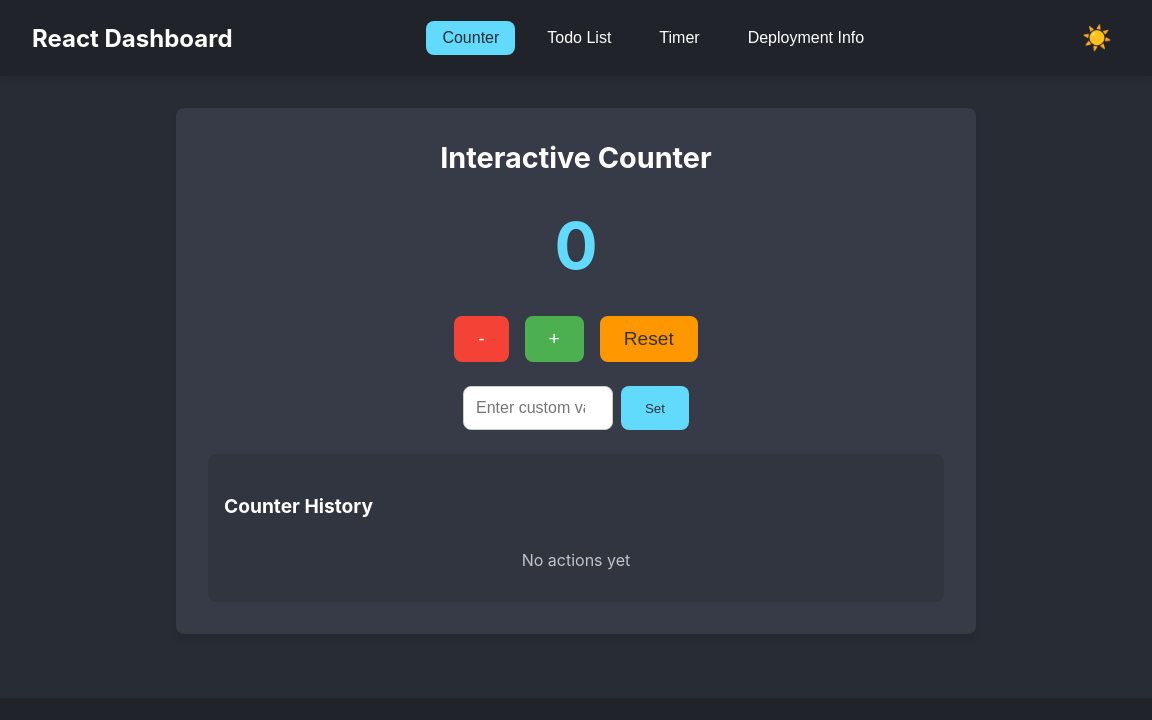
Test case: App Component › todo list functionality works correctly
Click the button "Todo List": (579, 38) [531,21,627,55]
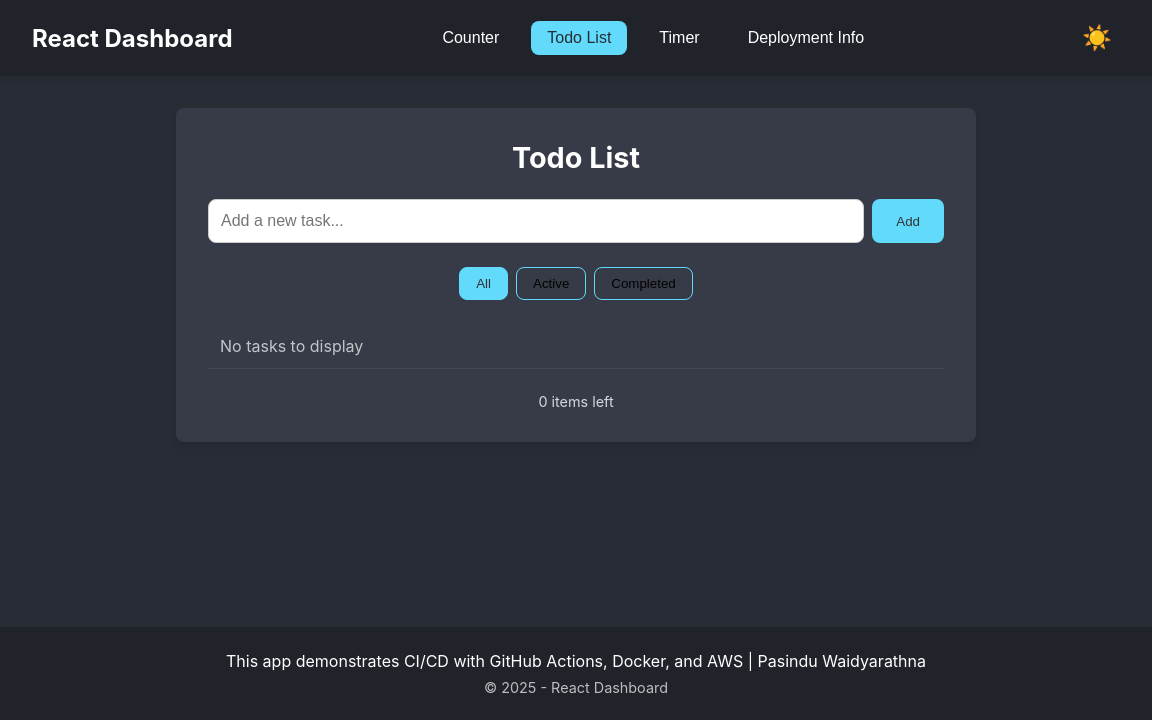
In the field with placeholder "Add a new task...": (536, 221) [208,199,864,243], type "Test todo item"
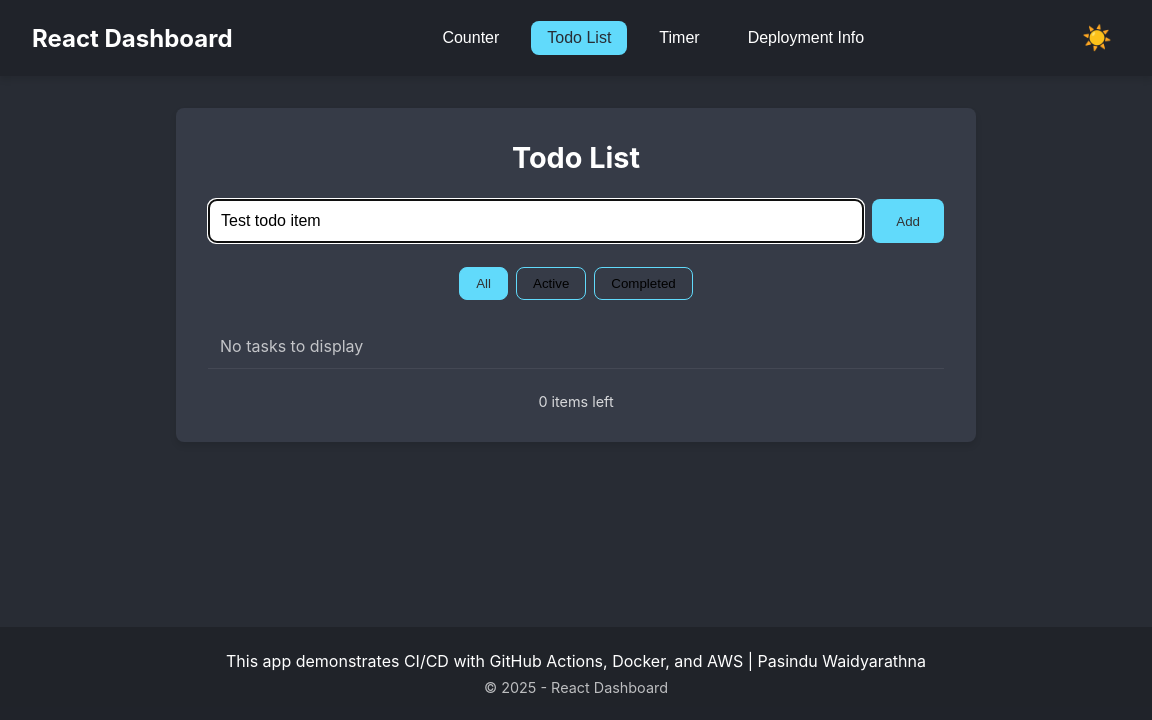
Click the button "Add": (908, 221) [872,199,944,243]
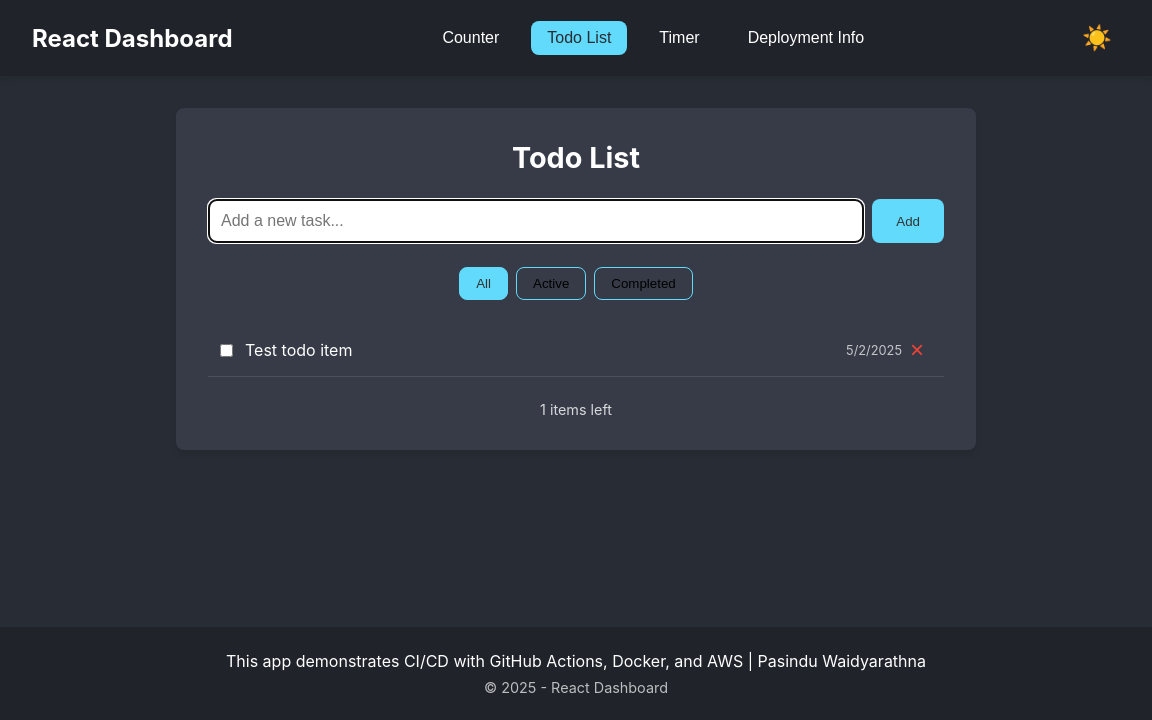
Check: the text "Test todo item" is shown, box [245,340,352,360]
Click the checkbox: (226, 350) [220,344,233,356]
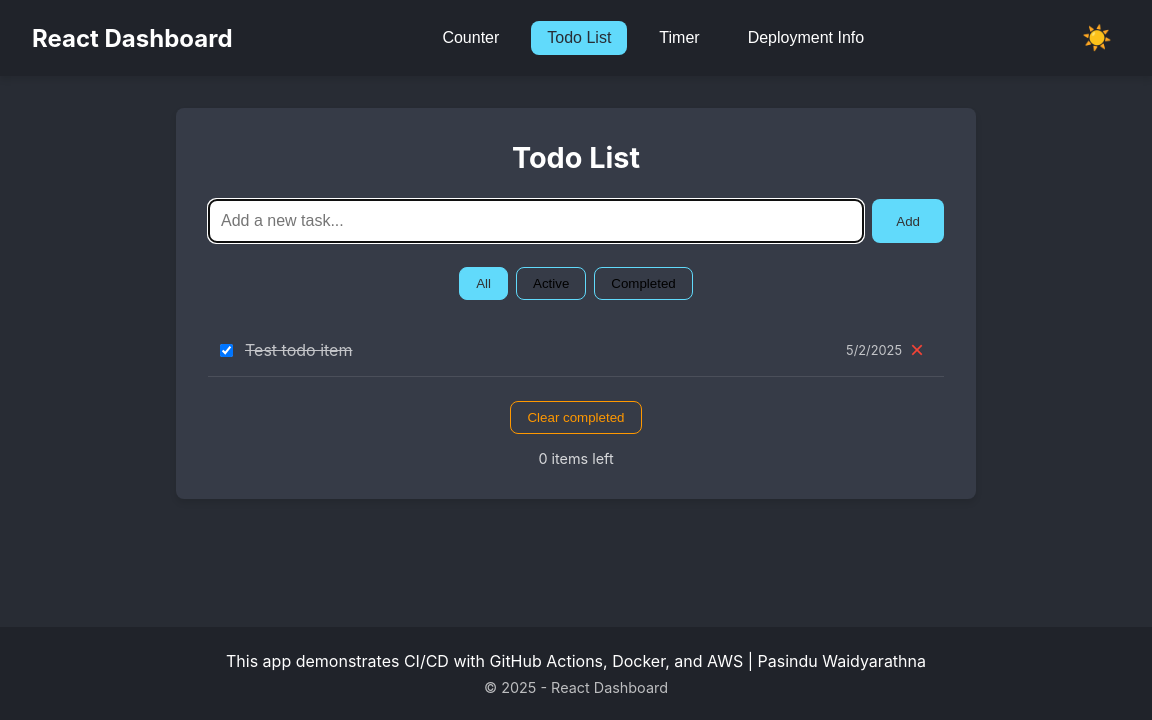
Check: the list item "Test todo item 5/2/2025 ×" has class "completed", box [208,324,944,377]
Click the button "×": (917, 350) [902,336,932,364]
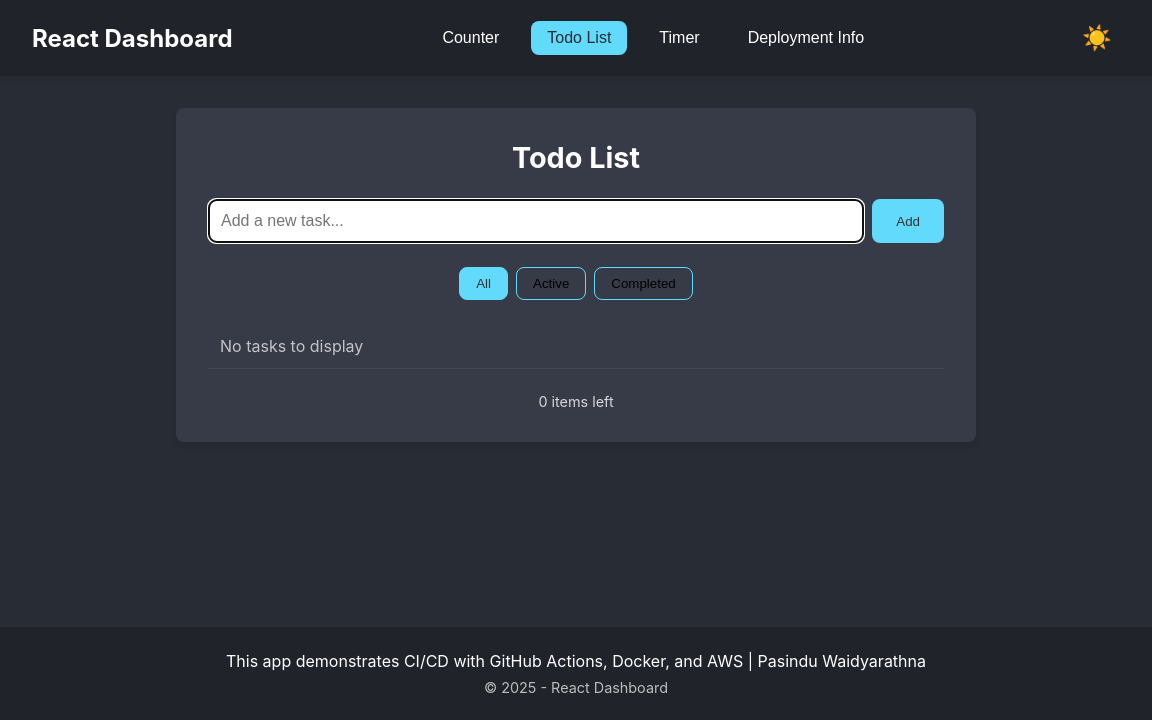
Check: the text "Test todo item" is gone
